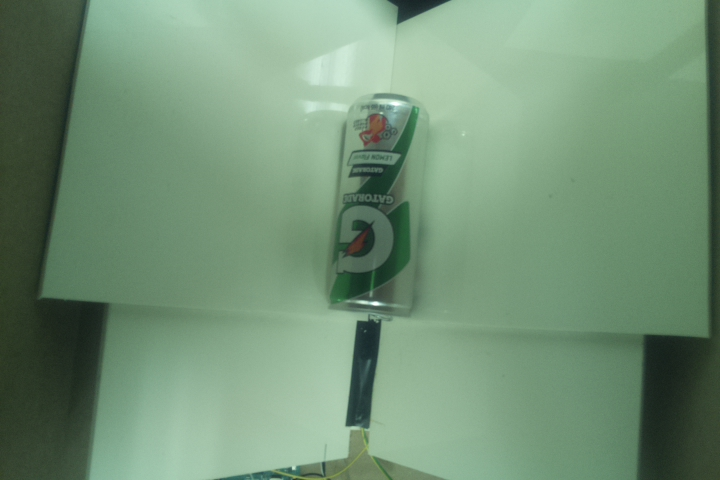can: (321, 89, 432, 321)
